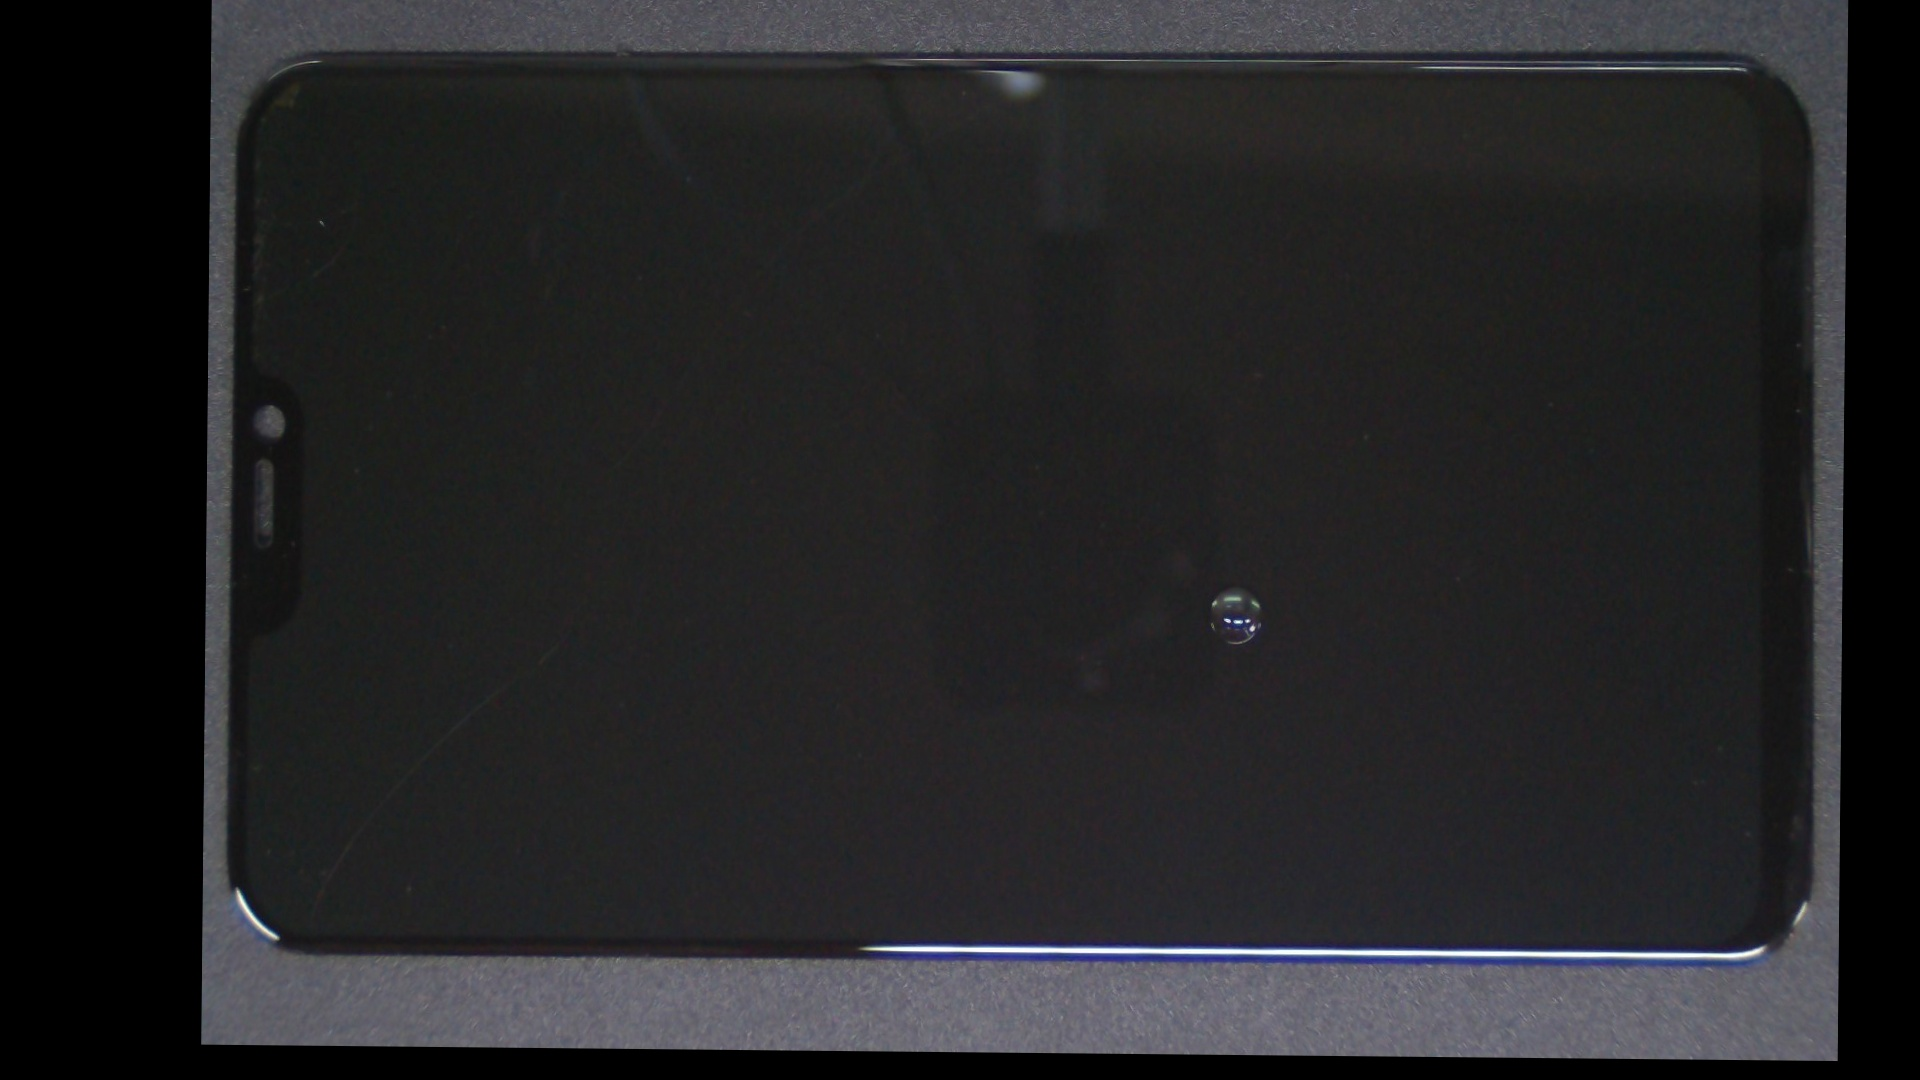oil: (717, 261, 1751, 911)
